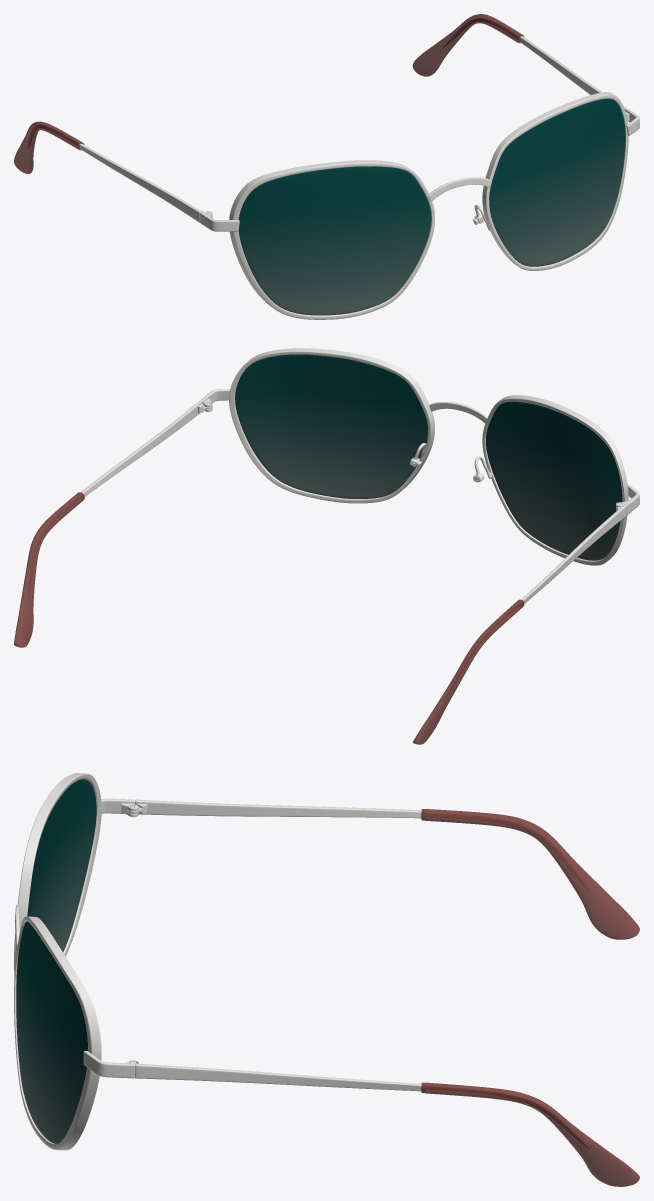
Rendered from sku_151377.glb.
The picture shows the model from 3 angles, top to bottom: view 1: azimuth 30°, elevation 25°; view 2: azimuth 150°, elevation 25°; view 3: azimuth 270°, elevation 25°; orthographic projection. The views are drawn at different scales.
Parts seen in each view (by area): view 1: Assets; view 2: Assets; view 3: Assets.
Boxes of the visible parts, x1,y1,x2,y2 form: Assets: [14, 14, 639, 319]; Assets: [14, 348, 639, 744]; Assets: [14, 773, 639, 1186].
Bounding box in the file's own units: 0.1328 × 0.0429 × 0.1261.
Materials: 5 (4 with a texture image).
